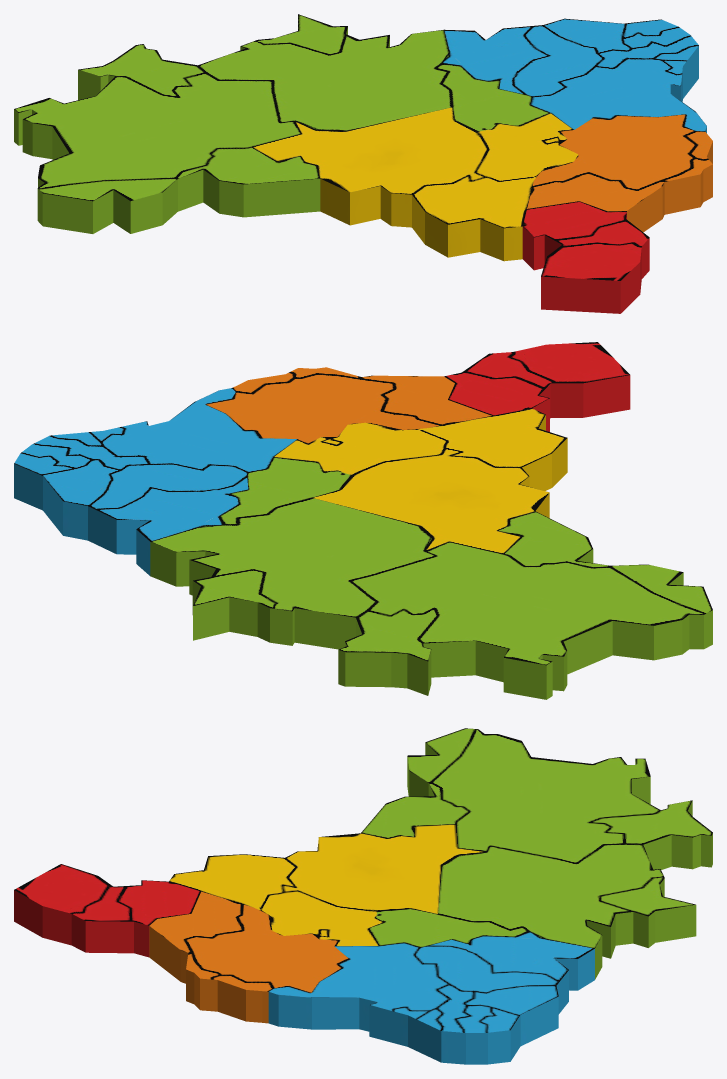
File: Brasil.fbx
The picture shows the model from 3 angles, top to bottom: view 1: azimuth 30°, elevation 25°; view 2: azimuth 150°, elevation 25°; view 3: azimuth 270°, elevation 25°; orthographic projection. The views are drawn at different scales.
Visible parts, largest first — view 1: Norte, CentroOeste, Nordeste, Sudeste, Sul; view 2: Norte, Nordeste, CentroOeste, Sudeste, Sul; view 3: Norte, Nordeste, CentroOeste, Sudeste, Sul.
Boxes of the visible parts, x1,y1,x2,y2 form: Norte: (14,14,549,233); CentroOeste: (252,107,578,261); Nordeste: (442,18,706,132); Sudeste: (527,114,712,232); Sul: (522,201,649,313); Norte: (150,457,712,699); Nordeste: (14,388,296,575); CentroOeste: (274,408,567,553); Sudeste: (205,367,491,443); Sul: (444,342,630,431); Norte: (361,728,712,979); Nordeste: (268,932,594,1064); CentroOeste: (169,824,486,946); Sudeste: (149,891,348,1023); Sul: (14,864,200,957).
Bounding box in the file's own units: 345 × 16.73 × 334.
1 material, 1 textured.
